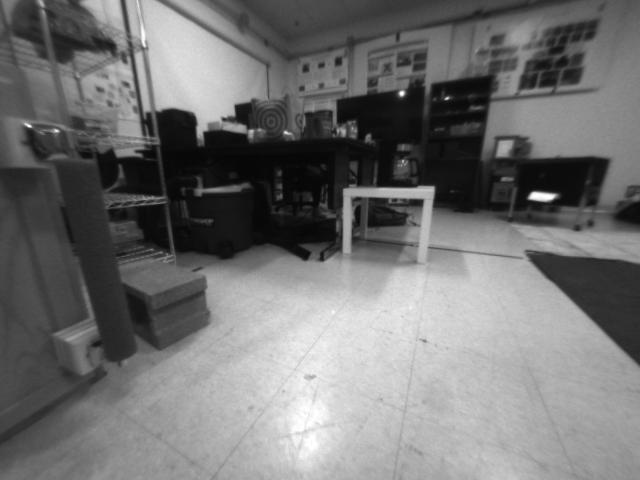coffee_pot: (375, 132, 424, 192)
